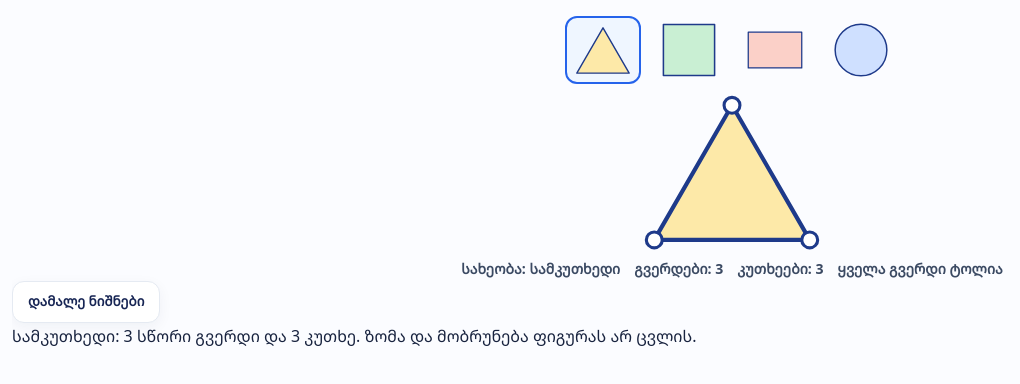
Test: tools: the shape explorer › the flat lab reports the properties of the shape that is picked
Click the button named "ფიგურა" at (861, 50), box top-left (823, 12), bottom-right (899, 88)
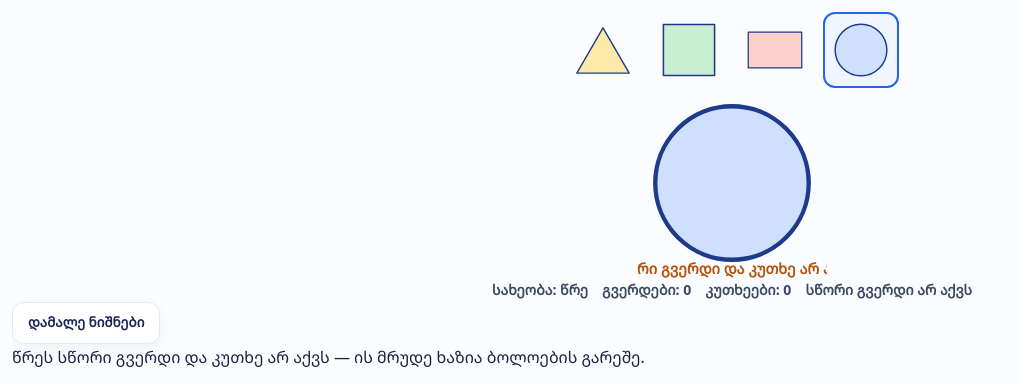
Result: the message with class "lab-status" shows "წრე" at top-left (12, 346), bottom-right (645, 368)
